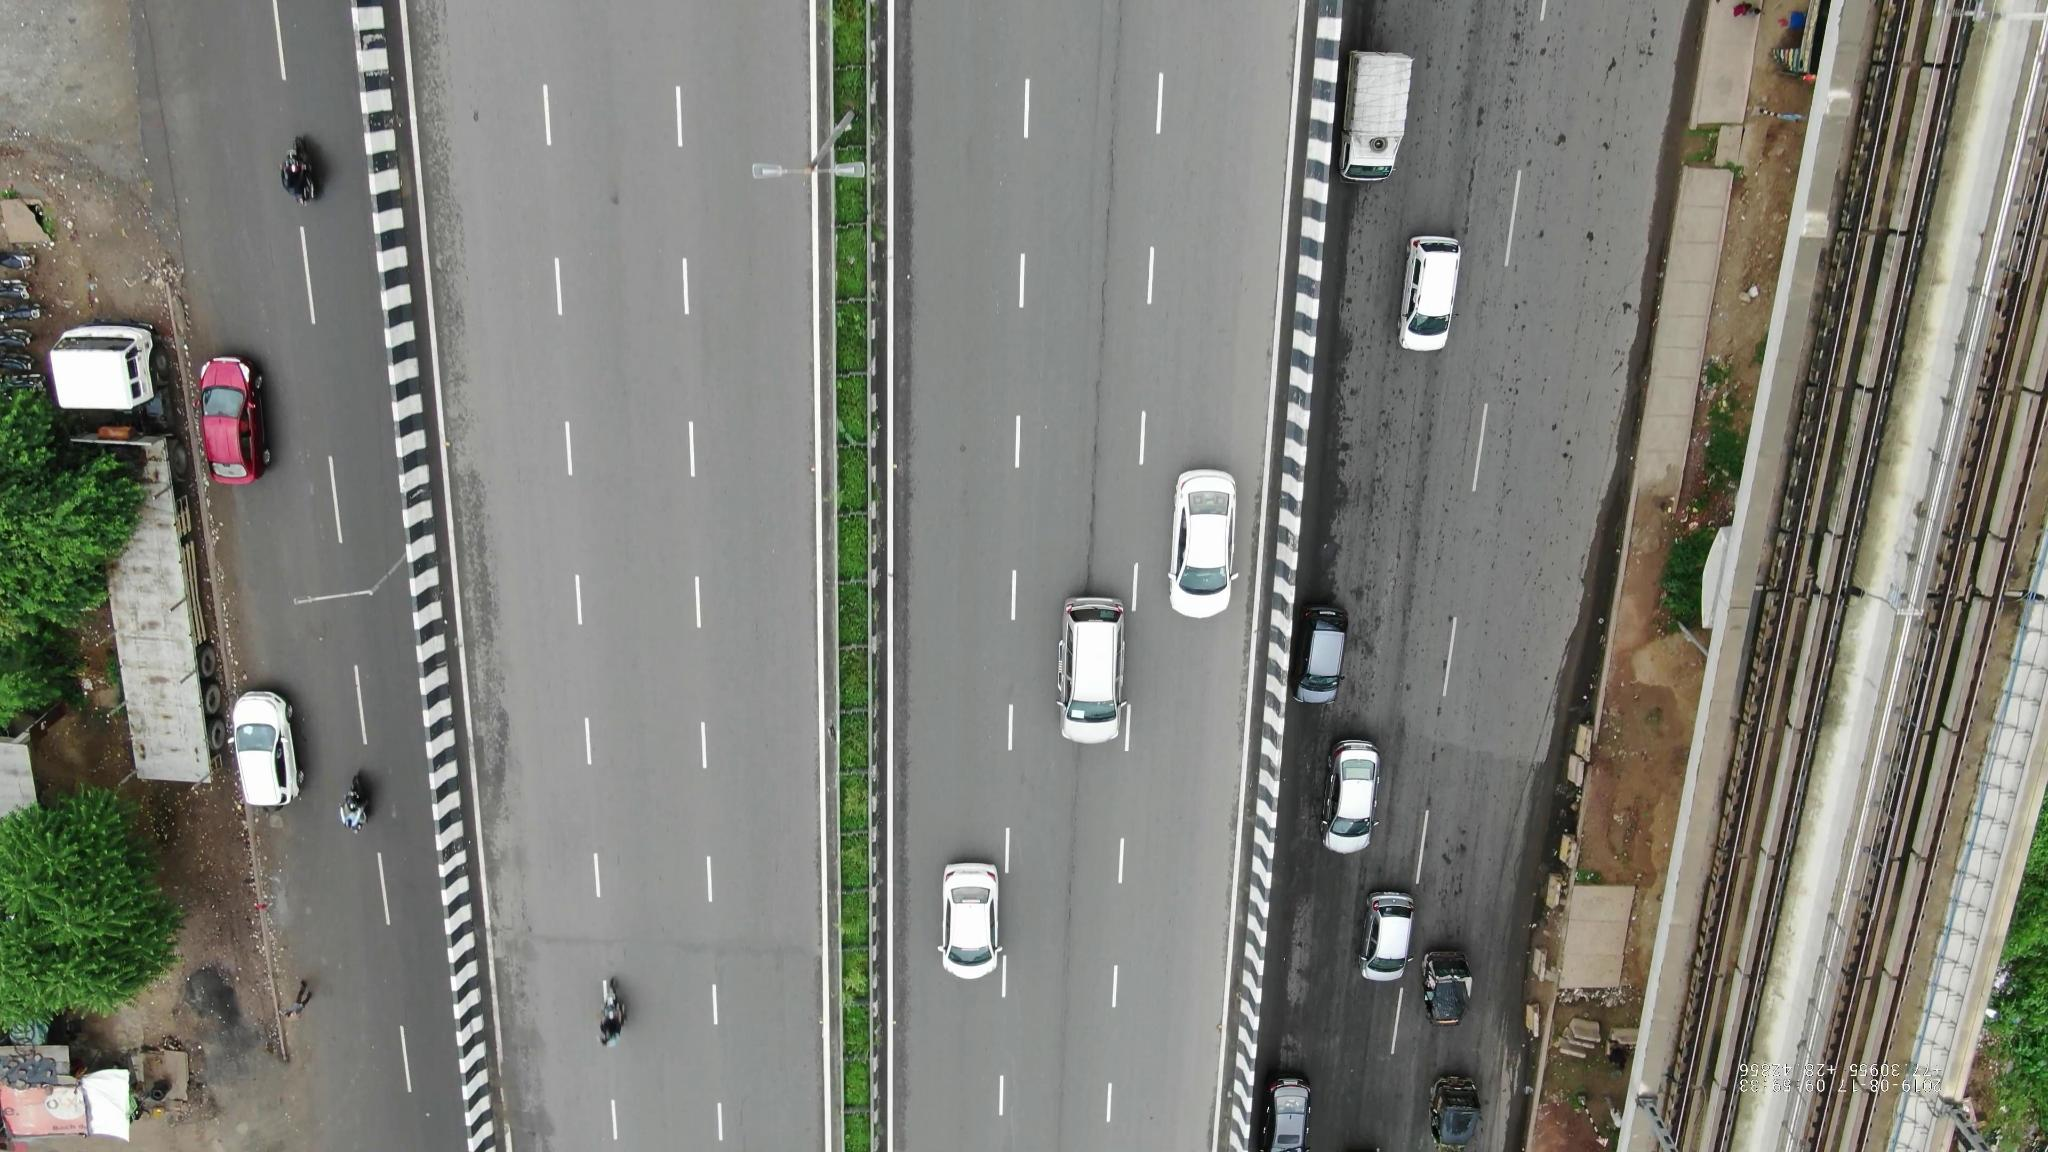Ravelling: (1083, 231, 1124, 572)
